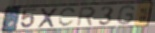3: (98, 6, 115, 26)
5: (20, 8, 39, 29)
C: (57, 7, 78, 28)
G: (116, 4, 136, 26)
R: (76, 6, 97, 27)
X: (36, 7, 59, 29)
